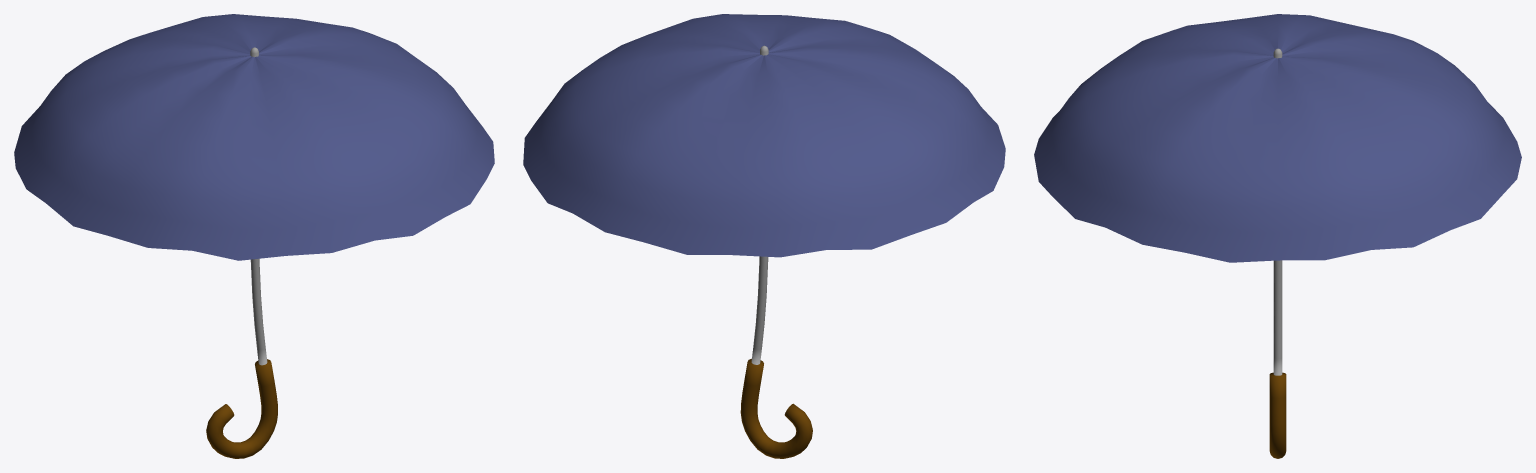
The model's file is umbrella.glb.
3 renders of one model, left to right at view 1: azimuth 30°, elevation 25°; view 2: azimuth 150°, elevation 25°; view 3: azimuth 270°, elevation 25°, orthographic.
Parts seen in each view (by area): view 1: Sphere, BézierCurve; view 2: Sphere, BézierCurve; view 3: Sphere, BézierCurve.
Boxes of the visible parts, x1,y1,x2,y2 form: Sphere: [14, 14, 494, 260]; BézierCurve: [206, 47, 277, 458]; Sphere: [523, 14, 1005, 257]; BézierCurve: [740, 45, 812, 458]; Sphere: [1034, 14, 1521, 262]; BézierCurve: [1269, 48, 1286, 458].
Bounding box in the file's own units: 4.38 × 4.08 × 4.38.
